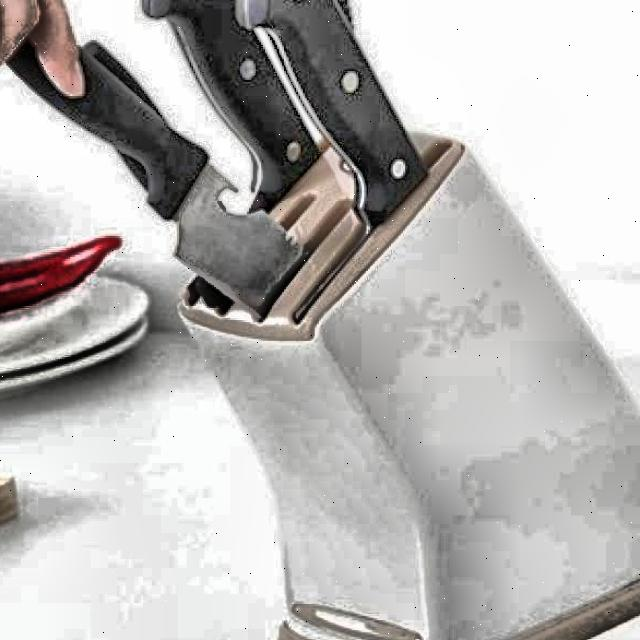knife: (5, 22, 314, 325)
